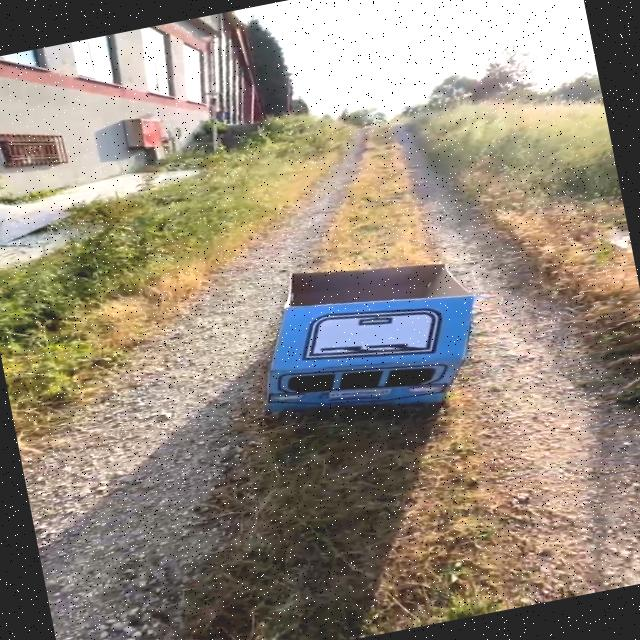blue_car: (172, 207, 559, 497)
